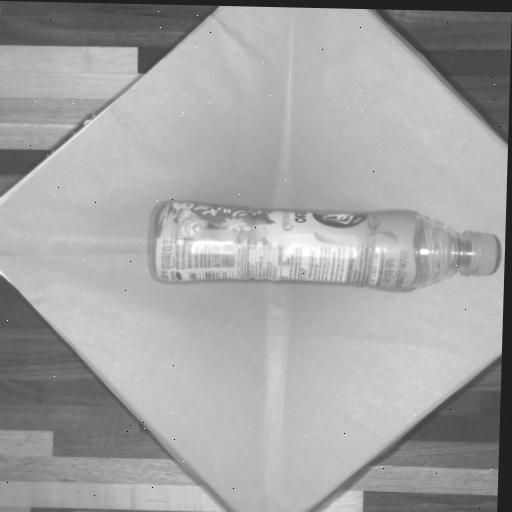bottle: (146, 201, 503, 294)
